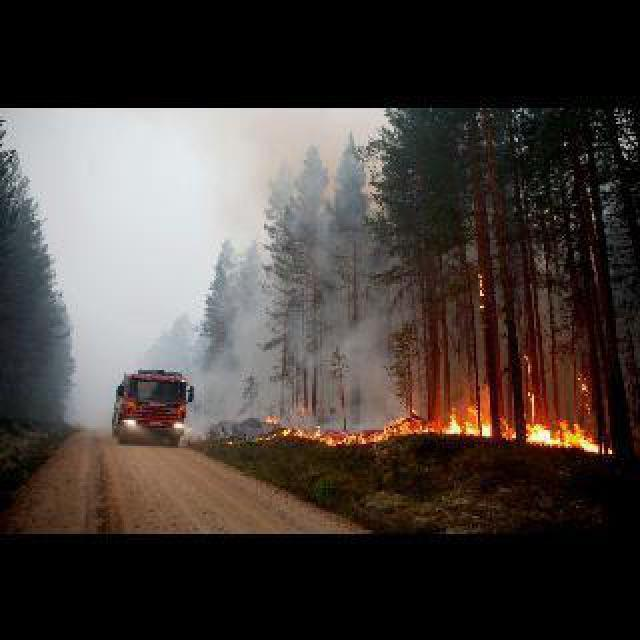fire: (63, 136, 400, 419)
smoke: (244, 388, 624, 464), (574, 372, 590, 408), (526, 350, 536, 386), (478, 262, 484, 296)
